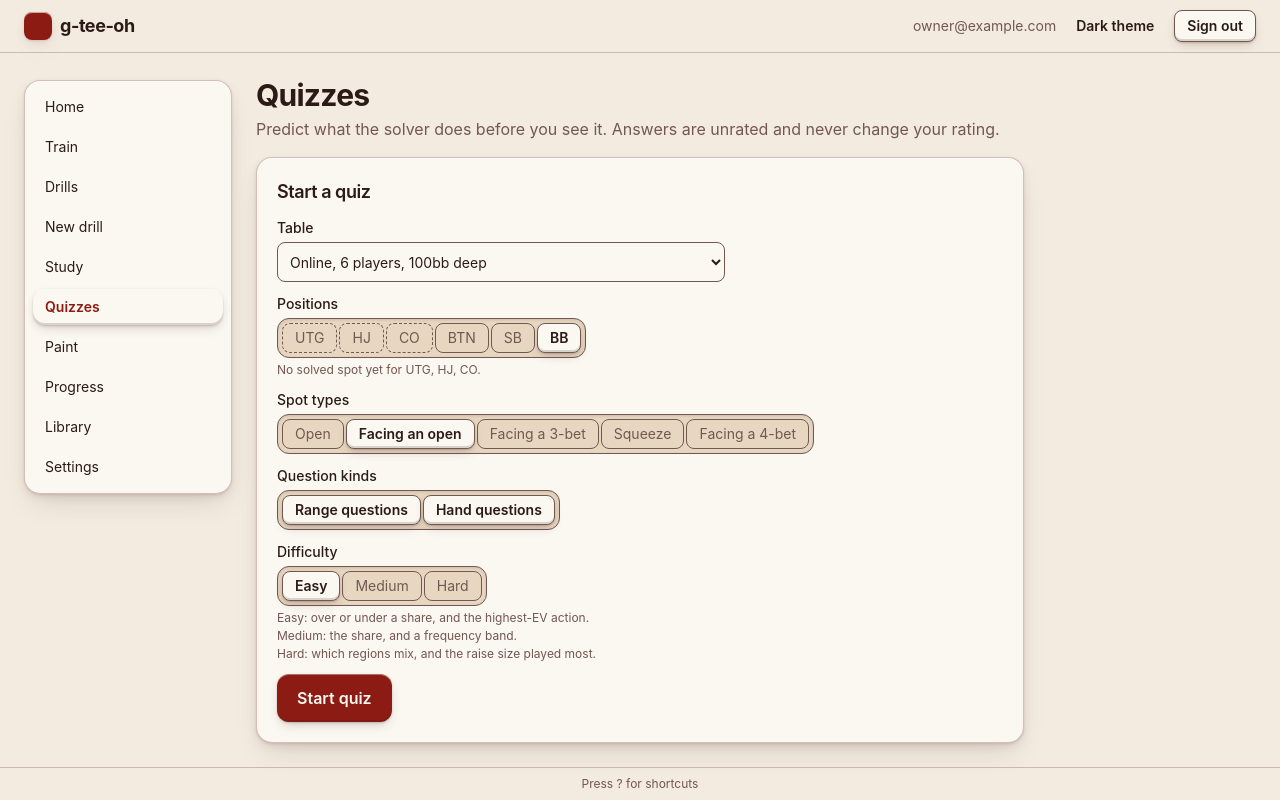
Scenario: R3.16 the quiz's Enter submits from the chosen option or the page only (PR #45 round 4 b, PR #49 round 1) › R3.16 Enter on an unchosen option picks it and sends nothing; a second Enter on it sends the new choice (PR #49 round 1, finding 1)
Click the button "Start quiz".
click(334, 698)  # box [277,674,392,722]
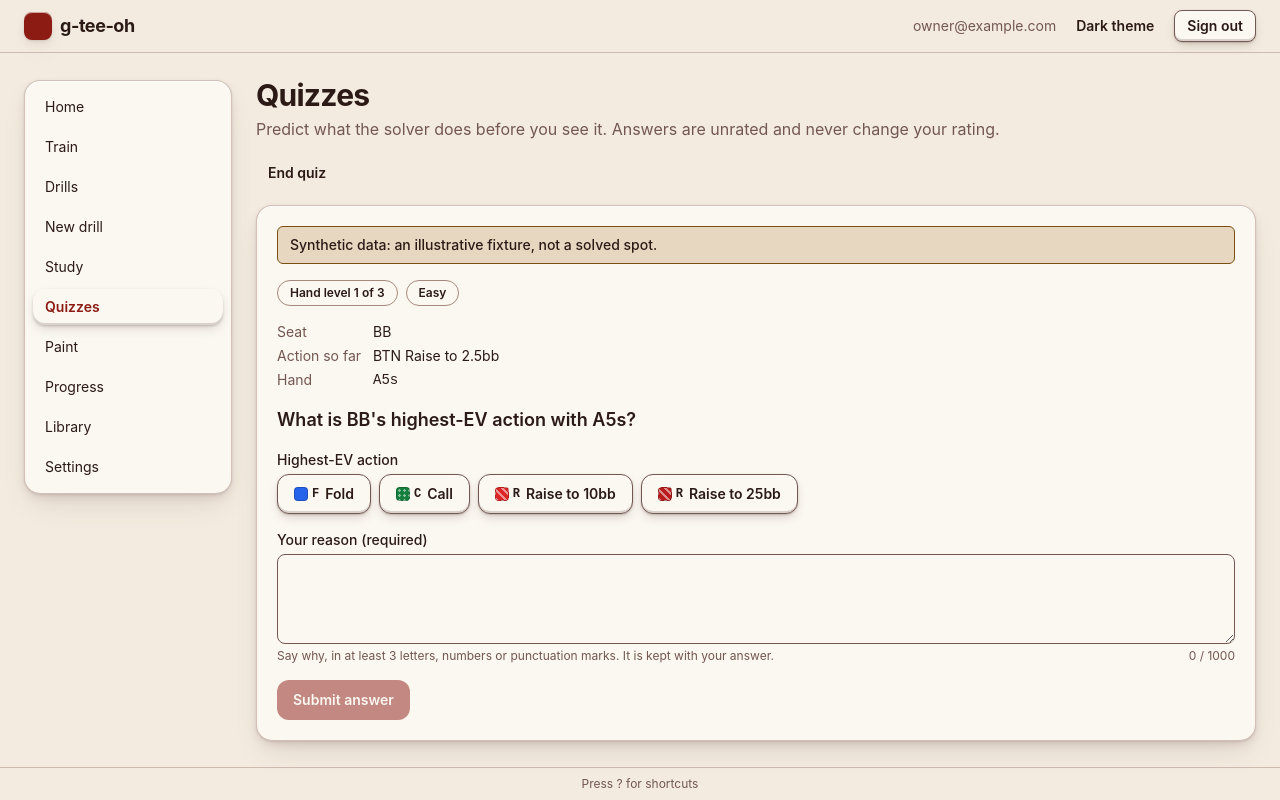
Expected: the heading "What is BB's highest-EV action with A5s?" is shown, [277,409,636,430]
Type "Facing a small open, the price is good." into the text box labelled "Your reason (required)".
click(756, 599); type("Facing a small open, the price is good.")  # box [277,554,1235,644]
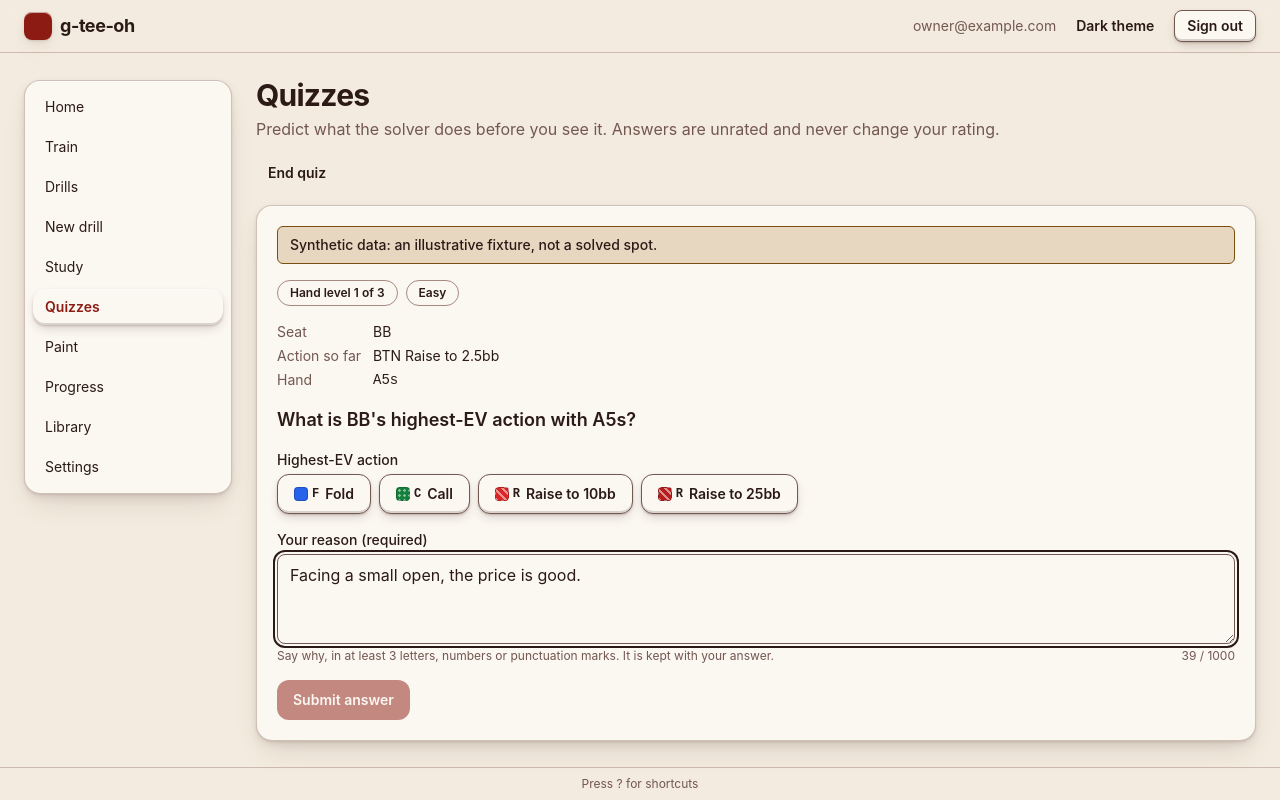
Click the button "C Call".
click(424, 494)  # box [379,474,470,514]
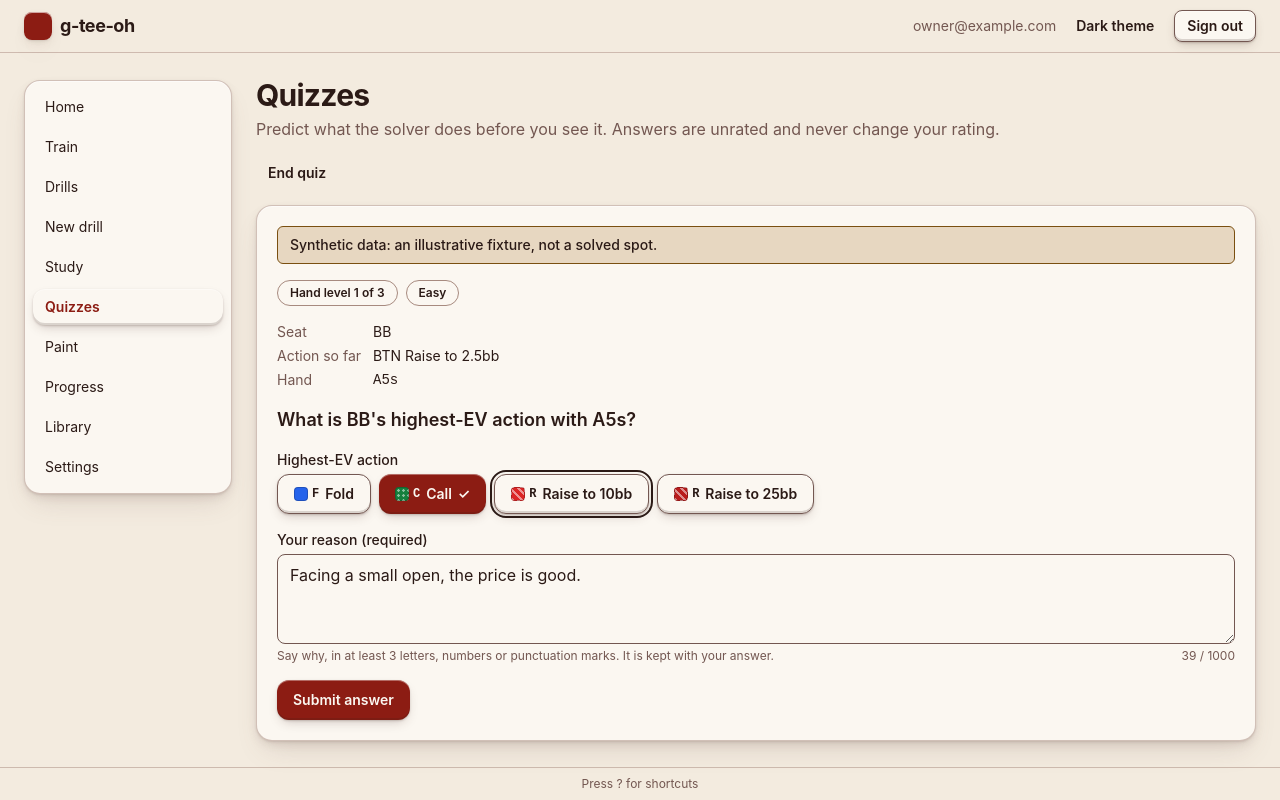
Press Enter
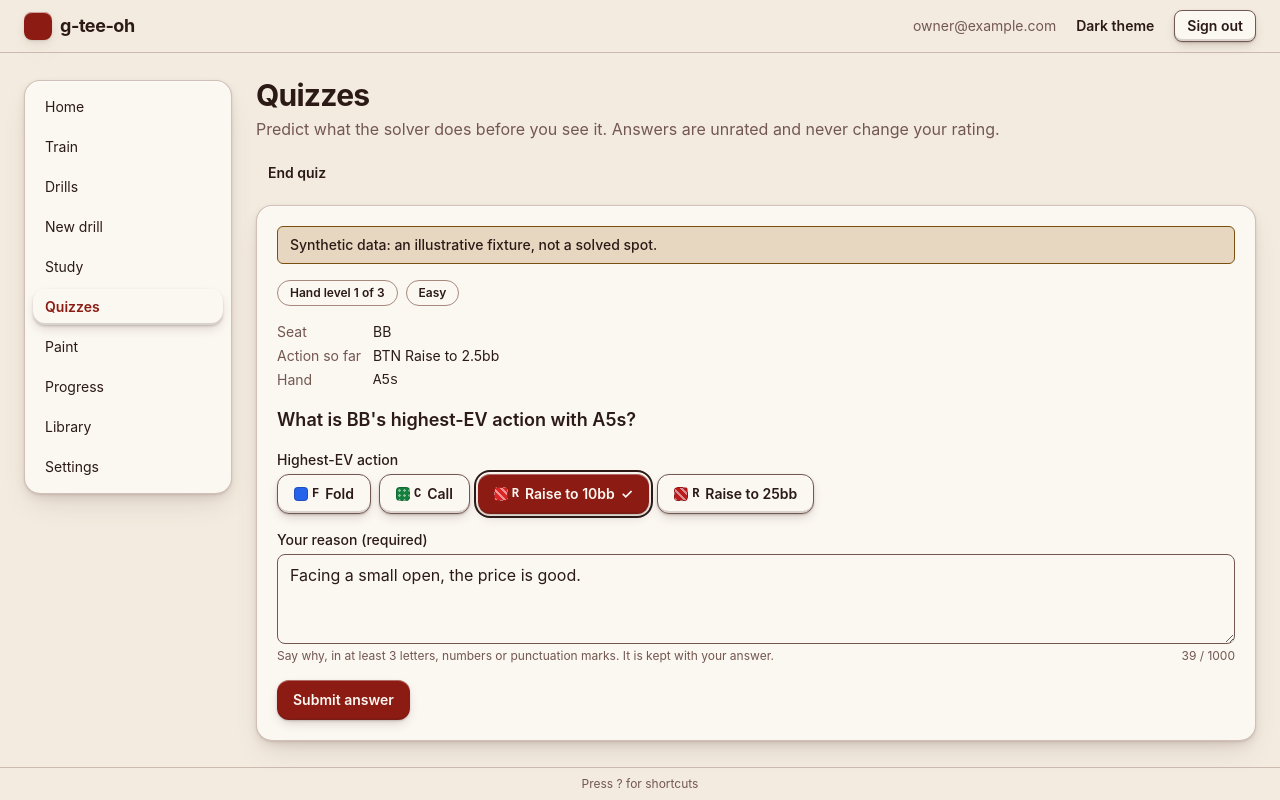
Expected: the button "R Raise to 10bb ✓" is pressed, [478,474,649,514]
Expected: the button "C Call" is not pressed, [379,474,470,514]
Press Enter
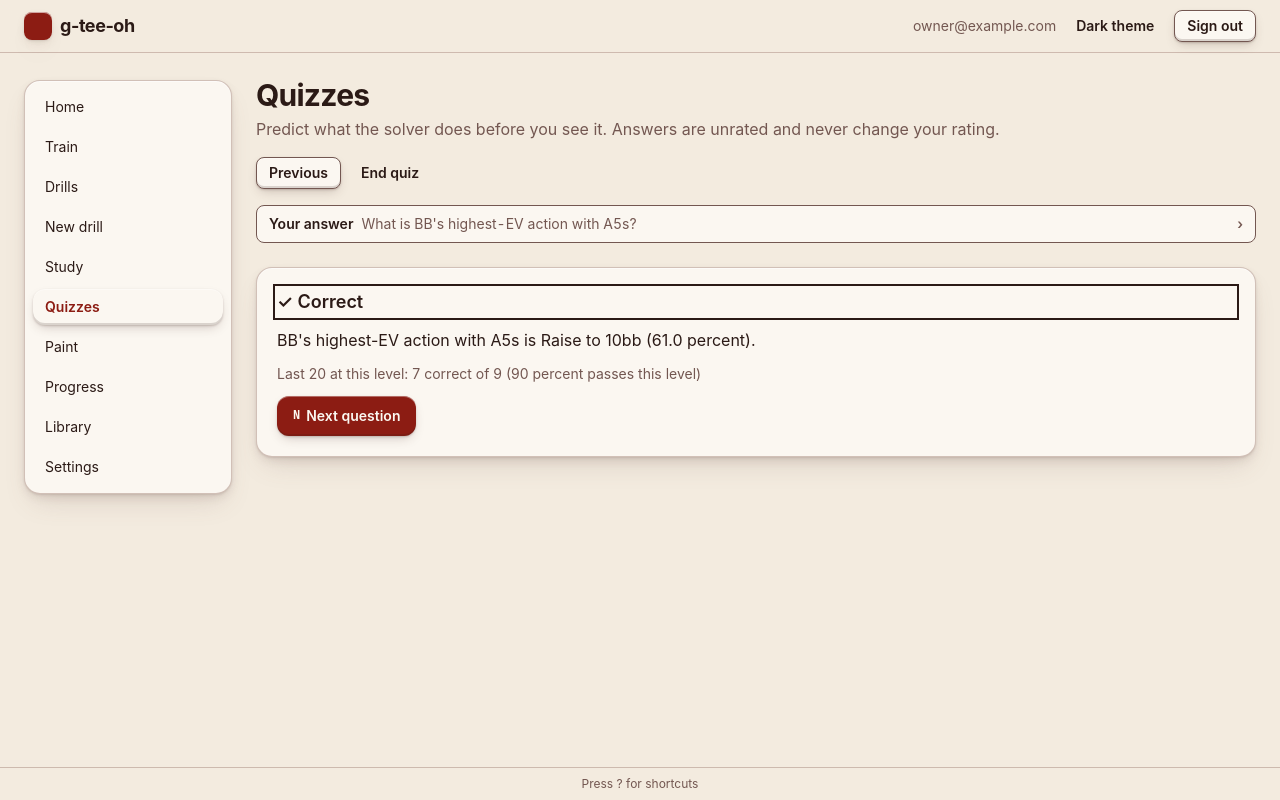
Expected: the element with test id "prediction-result" is shown, [256,267,1256,457]
